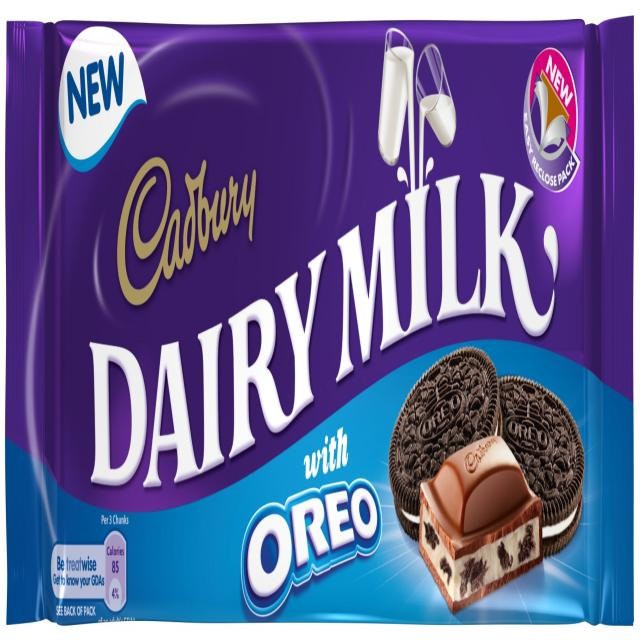cadbury: (6, 21, 634, 625)
